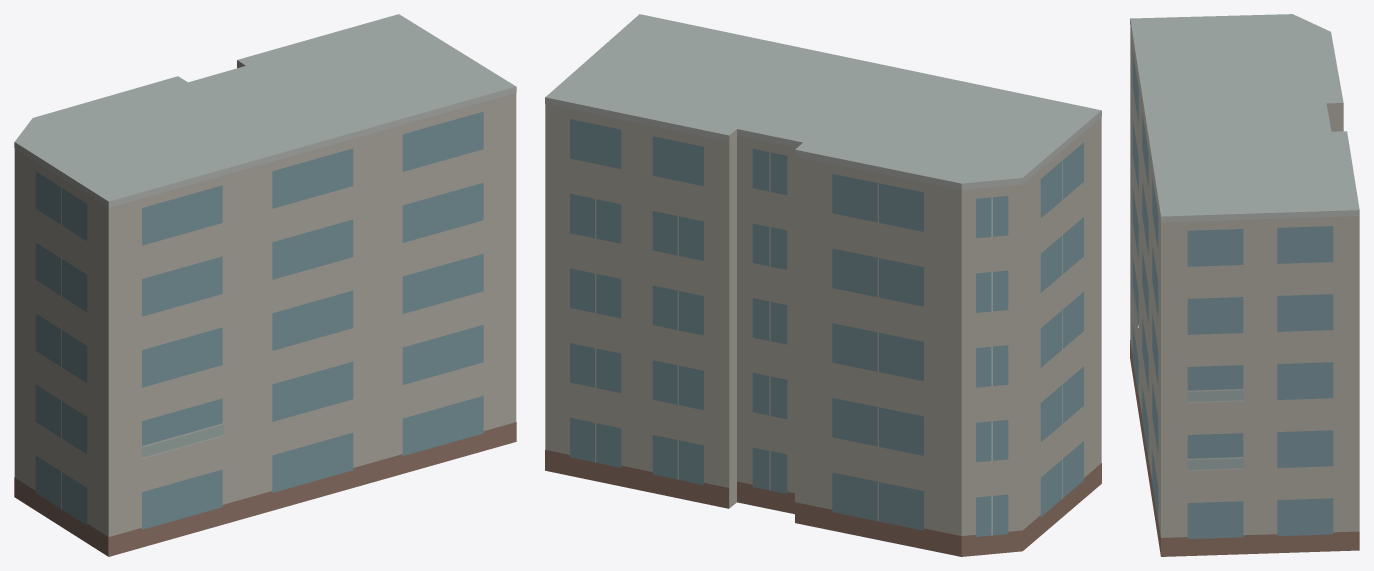
The model's file is survey-upis-32738402.glb.
3 views of the same model, side by side, from view 1: azimuth 30°, elevation 25°; view 2: azimuth 150°, elevation 25°; view 3: azimuth 270°, elevation 25° (orthographic). The views are drawn at different scales.
Parts seen in each view (by area): view 1: survey-upis-32738402.tmp; view 2: survey-upis-32738402.tmp; view 3: survey-upis-32738402.tmp.
Part boxes in pixels (box(x1,y1,x2,y2)): survey-upis-32738402.tmp: box(14, 14, 516, 556); survey-upis-32738402.tmp: box(545, 14, 1101, 556); survey-upis-32738402.tmp: box(1130, 14, 1359, 556).
Size of the model in its own units: 17.75 by 13.9 by 8.5.
